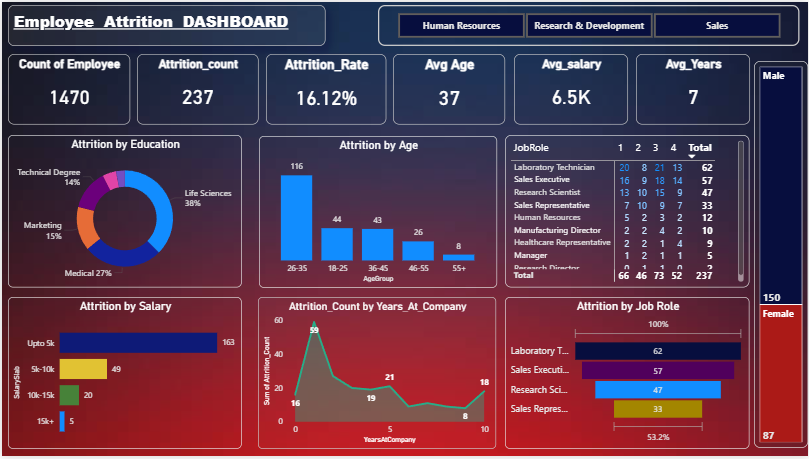

What the dashboard file says about the page in this screenshot:
{"tool":"powerbi","page":{"name":"Page 1","canvas":[1280,720],"ordinal":0},"visuals":[{"type":"card","title":"Count of Employee","fields":{"Values":["CountNonNull(HR_Analytics.EmpID)"]},"box":[10.1,82.6,194.2,111.6],"z":0},{"type":"card","title":"Attrition_count","fields":{"Values":["Sum(HR_Analytics.Attrition_Count)"]},"box":[214.5,82.6,192.8,111.6],"z":1000},{"type":"card","title":"Attrition_Rate","fields":{"Values":["HR_Analytics.Attrition_Rate"]},"box":[418.8,82.6,191.3,111.6],"z":2000},{"type":"card","title":"Avg Age ","fields":{"Values":["Avg(HR_Analytics.Age)"]},"box":[620.3,82.6,178.3,111.6],"z":3000},{"type":"card","title":"Avg_salary","fields":{"Values":["Avg(HR_Analytics.MonthlyIncome)"]},"box":[813,82.6,181.2,111.6],"z":4000},{"type":"card","title":"Avg_Years","fields":{"Values":["Avg(HR_Analytics.YearsAtCompany)"]},"box":[1005.8,82.6,181.2,111.6],"z":5000},{"type":"donutChart","title":"Attrition by Education","fields":{"Category":["HR_Analytics.EducationField"],"Y":["Sum(HR_Analytics.Attrition_Count)"]},"box":[10.1,211.6,371,242],"z":6000},{"type":"columnChart","title":"Attrition by Age","fields":{"Category":["HR_Analytics.AgeGroup"],"Y":["Sum(HR_Analytics.Attrition_Count)"]},"box":[407.2,213,378.3,240.6],"z":7000},{"type":"pivotTable","fields":{"Rows":["HR_Analytics.JobRole"],"Columns":["HR_Analytics.JobSatisfaction"],"Values":["Sum(HR_Analytics.Attrition_Count)"]},"box":[798.6,211.6,388.4,242],"z":8000},{"type":"barChart","title":"Attrition by Salary","fields":{"Category":["HR_Analytics.SalarySlab"],"Y":["Sum(HR_Analytics.Attrition_Count)"]},"box":[10.1,468.1,371,240.6],"z":9000},{"type":"funnel","title":"Attrition by Job Role","fields":{"Category":["HR_Analytics.JobRole"],"Y":["Sum(Employee  Attrition.Attrition_Count)"]},"box":[798.6,468.1,388.4,240.6],"z":10000},{"type":"areaChart","title":"Attrition_Count by Years_At_Company","fields":{"Y":["Sum(HR_Analytics.Attrition_Count)"],"Category":["HR_Analytics.YearsAtCompany"]},"box":[407,468,378,241],"z":11000},{"type":"slicer","fields":{"Values":["HR_Analytics.Department"]},"box":[597.3,4.1,668.9,64.7],"z":12000},{"type":"treemap","fields":{"Group":["HR_Analytics.Gender"],"Values":["Sum(HR_Analytics.Attrition_Count)"]},"box":[1194.2,94.2,85.5,614.5],"z":13000},{"type":"textbox","box":[10.1,4.3,504.3,65.2],"z":14000}]}

Visuals, with their boxes in screenshot pixels (x1, y1, x2, y2), scaled from the page's 1280x720 canvas onto the 809x459 screenshot:
"Count of Employee" card: 6/53/129/124
"Attrition_count" card: 136/53/257/124
"Attrition_Rate" card: 265/53/386/124
"Avg Age " card: 392/53/505/124
"Avg_salary" card: 514/53/628/124
"Avg_Years" card: 636/53/750/124
"Attrition by Education" donutChart: 6/135/241/289
"Attrition by Age" columnChart: 257/136/496/289
pivotTable - HR_Analytics.JobRole x HR_Analytics.JobSatisfaction: 505/135/750/289
"Attrition by Salary" barChart: 6/298/241/452
"Attrition by Job Role" funnel: 505/298/750/452
"Attrition_Count by Years_At_Company" areaChart: 257/298/496/452
slicer - HR_Analytics.Department: 378/3/800/44
treemap - HR_Analytics.Gender x Sum(HR_Analytics.Attrition_Count): 755/60/808/452
textbox: 6/3/325/44
